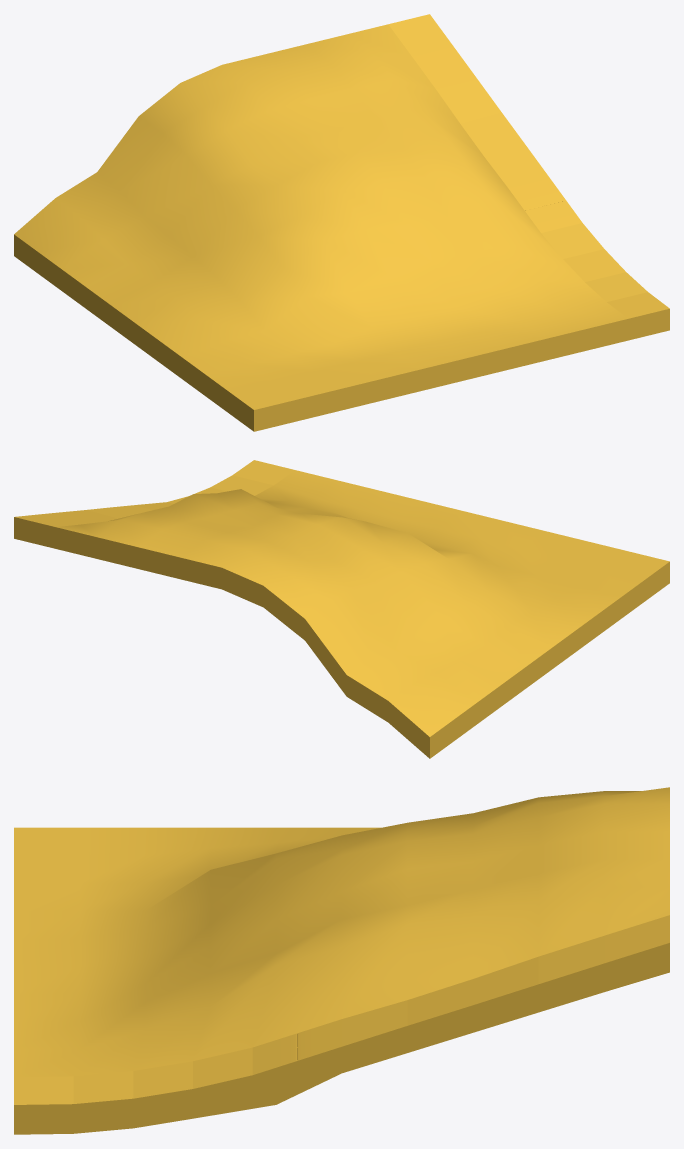
File: Flach - Unten - Ecke b - x.fbx
3 views of the same model, one above another, from view 1: azimuth 30°, elevation 25°; view 2: azimuth 150°, elevation 25°; view 3: azimuth 270°, elevation 25° (orthographic). The views are drawn at different scales.
Visible parts, largest first — view 1: Flach - Unten - Ecke b - x; view 2: Flach - Unten - Ecke b - x; view 3: Flach - Unten - Ecke b - x.
Part boxes in pixels (left/top/right/bottom): Flach - Unten - Ecke b - x: left=14, top=14, right=669, bottom=431; Flach - Unten - Ecke b - x: left=14, top=460, right=669, bottom=758; Flach - Unten - Ecke b - x: left=14, top=787, right=669, bottom=1134.
Size of the model in its own units: 394 by 127 by 394.
